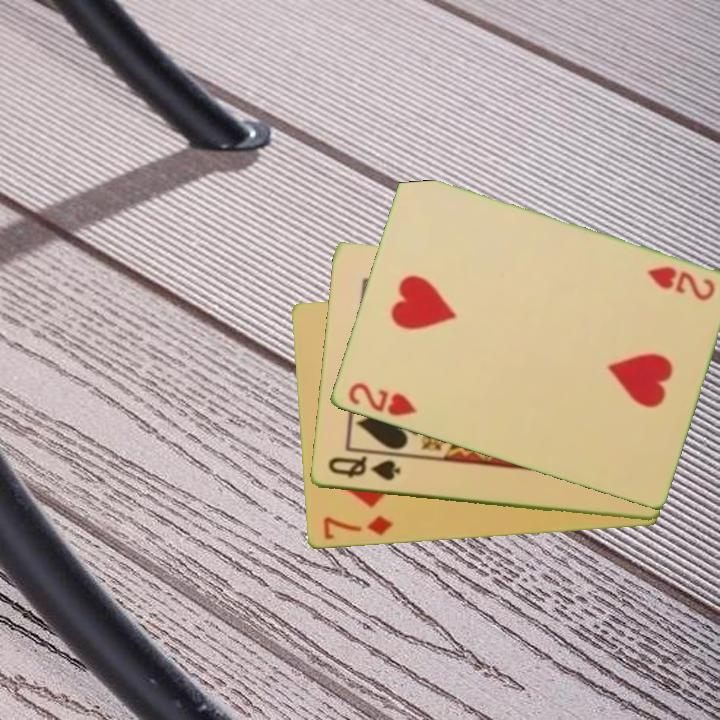2h: (642, 263, 718, 305), (344, 379, 419, 420)
7d: (319, 512, 395, 543)
Qs: (324, 454, 403, 484)
